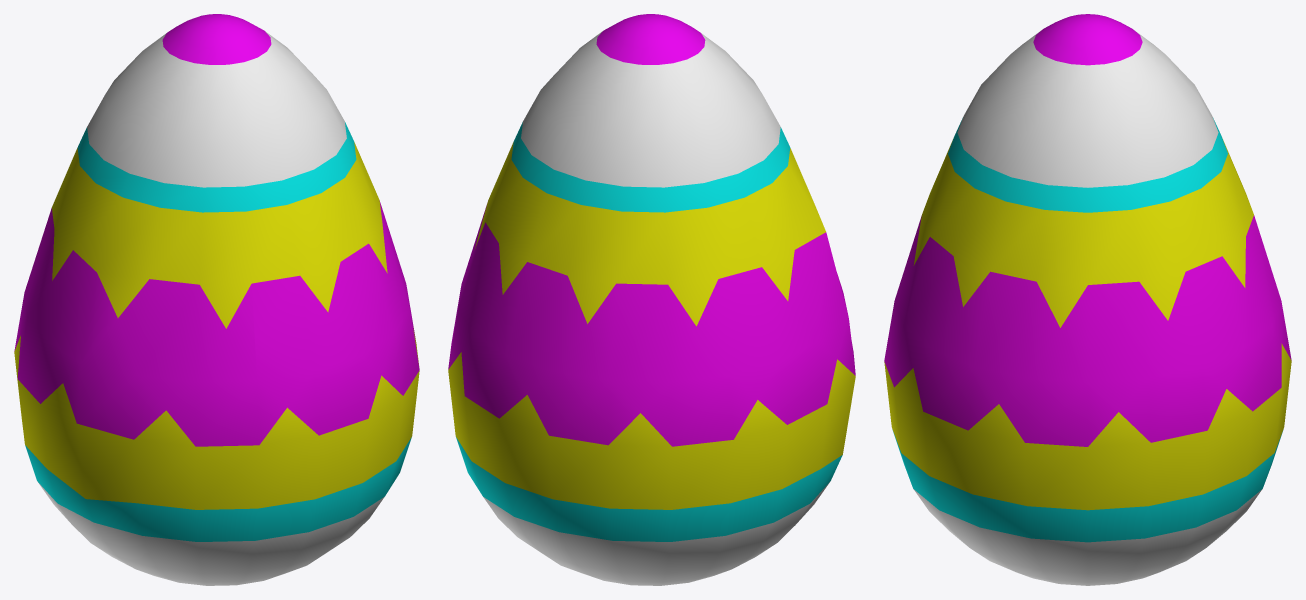
File: OeufdePaque.fbx
3 renders of one model, left to right at view 1: azimuth 30°, elevation 25°; view 2: azimuth 150°, elevation 25°; view 3: azimuth 270°, elevation 25°, orthographic.
Visible parts, largest first — view 1: pSphere1; view 2: pSphere1; view 3: pSphere1.
Part boxes in pixels (x1,y1,x2,y2): pSphere1: (14, 14, 419, 585); pSphere1: (448, 14, 855, 585); pSphere1: (884, 14, 1291, 585).
Bounding box in the file's own units: 1.98 × 2.92 × 1.98.
